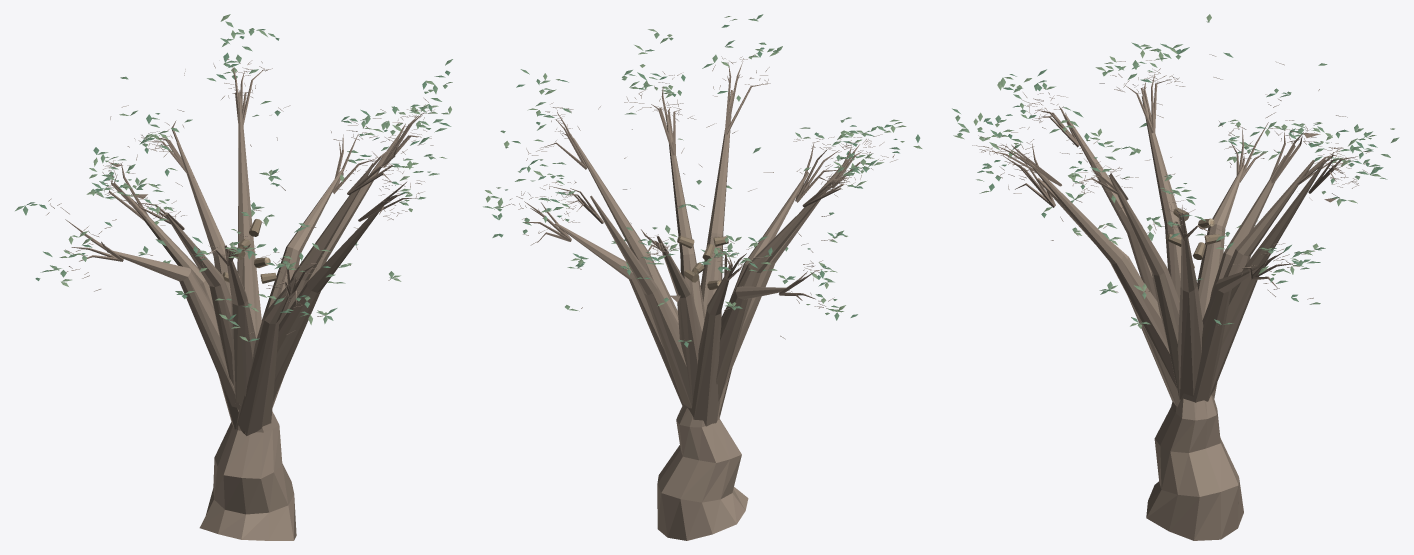
File: E07_FIGUEIRA_QUINTAL_PODADA_ESTRUTURAL_CANDIDATO_REV09.glb
The picture shows the model from 3 angles, left to right: view 1: azimuth 30°, elevation 25°; view 2: azimuth 150°, elevation 25°; view 3: azimuth 270°, elevation 25°; orthographic projection. The views are drawn at different scales.
Visible parts, largest first — view 1: E07_R2Z2_FIGUEIRA_QUINTAL_bark, E07_R2Z2_FIGUEIRA_QUINTAL_twig, E07_R2Z2_FIGUEIRA_QUINTAL_leaf0, E07_R2Z2_FIGUEIRA_QUINTAL_leaf2, E07_R2Z2_FIGUEIRA_QUINTAL_leaf4, E07_R2Z2_FIGUEIRA_QUINTAL_leaf5, E07_R2Z2_FIGUEIRA_QUINTAL_leaf1, E07_R2Z2_FIGUEIRA_QUINTAL_leaf3; view 2: E07_R2Z2_FIGUEIRA_QUINTAL_bark, E07_R2Z2_FIGUEIRA_QUINTAL_twig, E07_R2Z2_FIGUEIRA_QUINTAL_leaf0, E07_R2Z2_FIGUEIRA_QUINTAL_leaf4, E07_R2Z2_FIGUEIRA_QUINTAL_leaf2, E07_R2Z2_FIGUEIRA_QUINTAL_leaf5, E07_R2Z2_FIGUEIRA_QUINTAL_leaf3, E07_R2Z2_FIGUEIRA_QUINTAL_leaf1; view 3: E07_R2Z2_FIGUEIRA_QUINTAL_bark, E07_R2Z2_FIGUEIRA_QUINTAL_twig, E07_R2Z2_FIGUEIRA_QUINTAL_leaf5, E07_R2Z2_FIGUEIRA_QUINTAL_leaf2, E07_R2Z2_FIGUEIRA_QUINTAL_leaf4, E07_R2Z2_FIGUEIRA_QUINTAL_leaf0, E07_R2Z2_FIGUEIRA_QUINTAL_leaf1, E07_R2Z2_FIGUEIRA_QUINTAL_leaf3.
Part boxes in pixels (left/top/right/bottom): E07_R2Z2_FIGUEIRA_QUINTAL_bark: left=107, top=92, right=400, bottom=540; E07_R2Z2_FIGUEIRA_QUINTAL_twig: left=46, top=59, right=434, bottom=334; E07_R2Z2_FIGUEIRA_QUINTAL_leaf0: left=26, top=29, right=451, bottom=341; E07_R2Z2_FIGUEIRA_QUINTAL_leaf2: left=15, top=29, right=452, bottom=323; E07_R2Z2_FIGUEIRA_QUINTAL_leaf4: left=61, top=29, right=452, bottom=341; E07_R2Z2_FIGUEIRA_QUINTAL_leaf5: left=49, top=14, right=451, bottom=324; E07_R2Z2_FIGUEIRA_QUINTAL_leaf1: left=23, top=38, right=445, bottom=326; E07_R2Z2_FIGUEIRA_QUINTAL_leaf3: left=50, top=21, right=447, bottom=315; E07_R2Z2_FIGUEIRA_QUINTAL_bark: left=555, top=90, right=848, bottom=540; E07_R2Z2_FIGUEIRA_QUINTAL_twig: left=502, top=53, right=897, bottom=340; E07_R2Z2_FIGUEIRA_QUINTAL_leaf0: left=492, top=25, right=920, bottom=347; E07_R2Z2_FIGUEIRA_QUINTAL_leaf4: left=485, top=19, right=902, bottom=311; E07_R2Z2_FIGUEIRA_QUINTAL_leaf2: left=483, top=37, right=884, bottom=310; E07_R2Z2_FIGUEIRA_QUINTAL_leaf5: left=485, top=16, right=922, bottom=341; E07_R2Z2_FIGUEIRA_QUINTAL_leaf3: left=489, top=18, right=885, bottom=314; E07_R2Z2_FIGUEIRA_QUINTAL_leaf1: left=492, top=14, right=899, bottom=341; E07_R2Z2_FIGUEIRA_QUINTAL_bark: left=1026, top=96, right=1324, bottom=540; E07_R2Z2_FIGUEIRA_QUINTAL_twig: left=972, top=54, right=1370, bottom=326; E07_R2Z2_FIGUEIRA_QUINTAL_leaf5: left=953, top=14, right=1394, bottom=326; E07_R2Z2_FIGUEIRA_QUINTAL_leaf2: left=957, top=21, right=1379, bottom=298; E07_R2Z2_FIGUEIRA_QUINTAL_leaf4: left=976, top=44, right=1380, bottom=328; E07_R2Z2_FIGUEIRA_QUINTAL_leaf0: left=977, top=48, right=1383, bottom=324; E07_R2Z2_FIGUEIRA_QUINTAL_leaf1: left=952, top=42, right=1372, bottom=301; E07_R2Z2_FIGUEIRA_QUINTAL_leaf3: left=955, top=44, right=1399, bottom=324.
Size of the model in its own units: 6.27 by 6.95 by 6.25.
